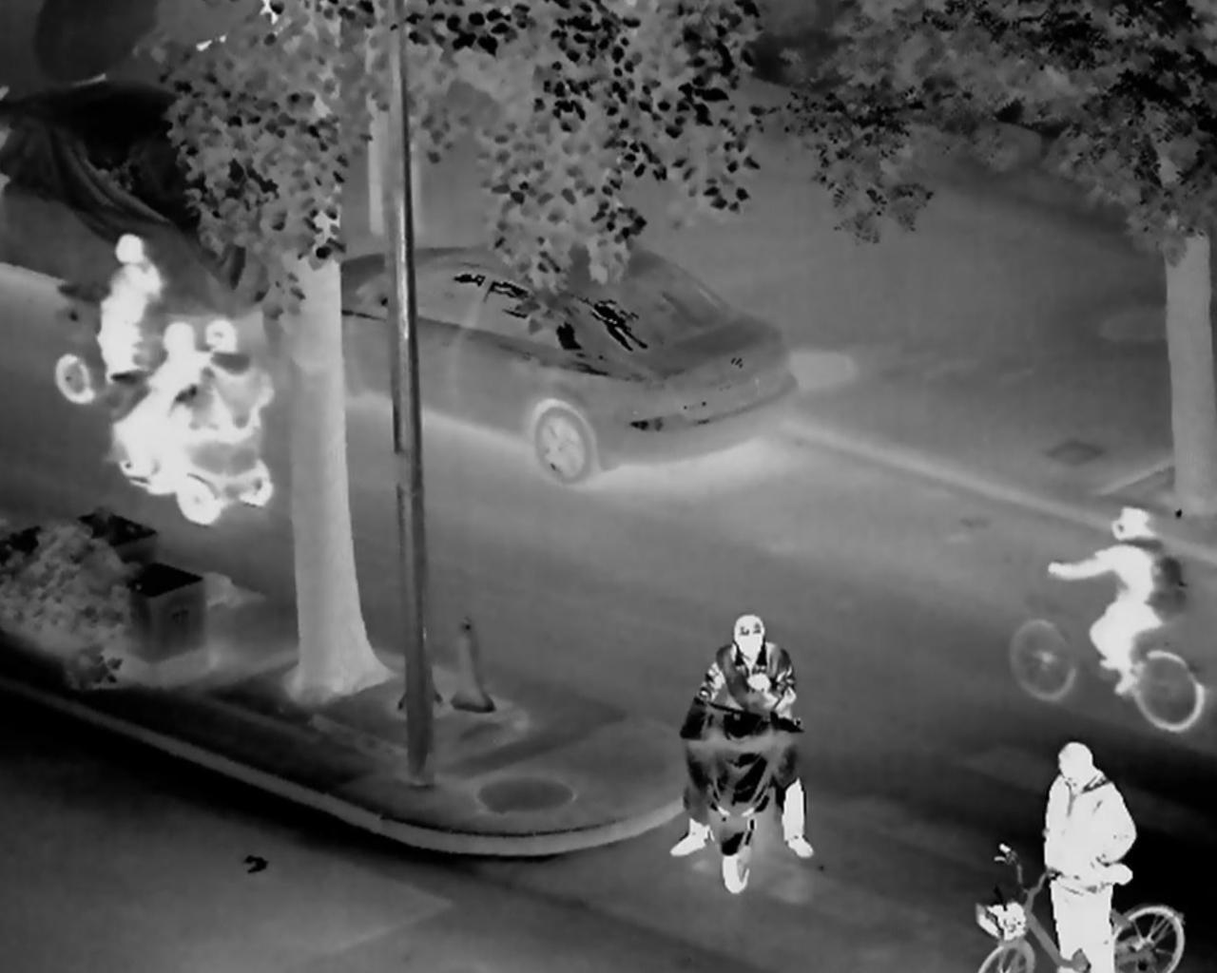person: (673, 595, 830, 894), (1041, 502, 1194, 754), (1021, 738, 1141, 973), (89, 237, 163, 419), (197, 310, 267, 490), (153, 317, 199, 470)
